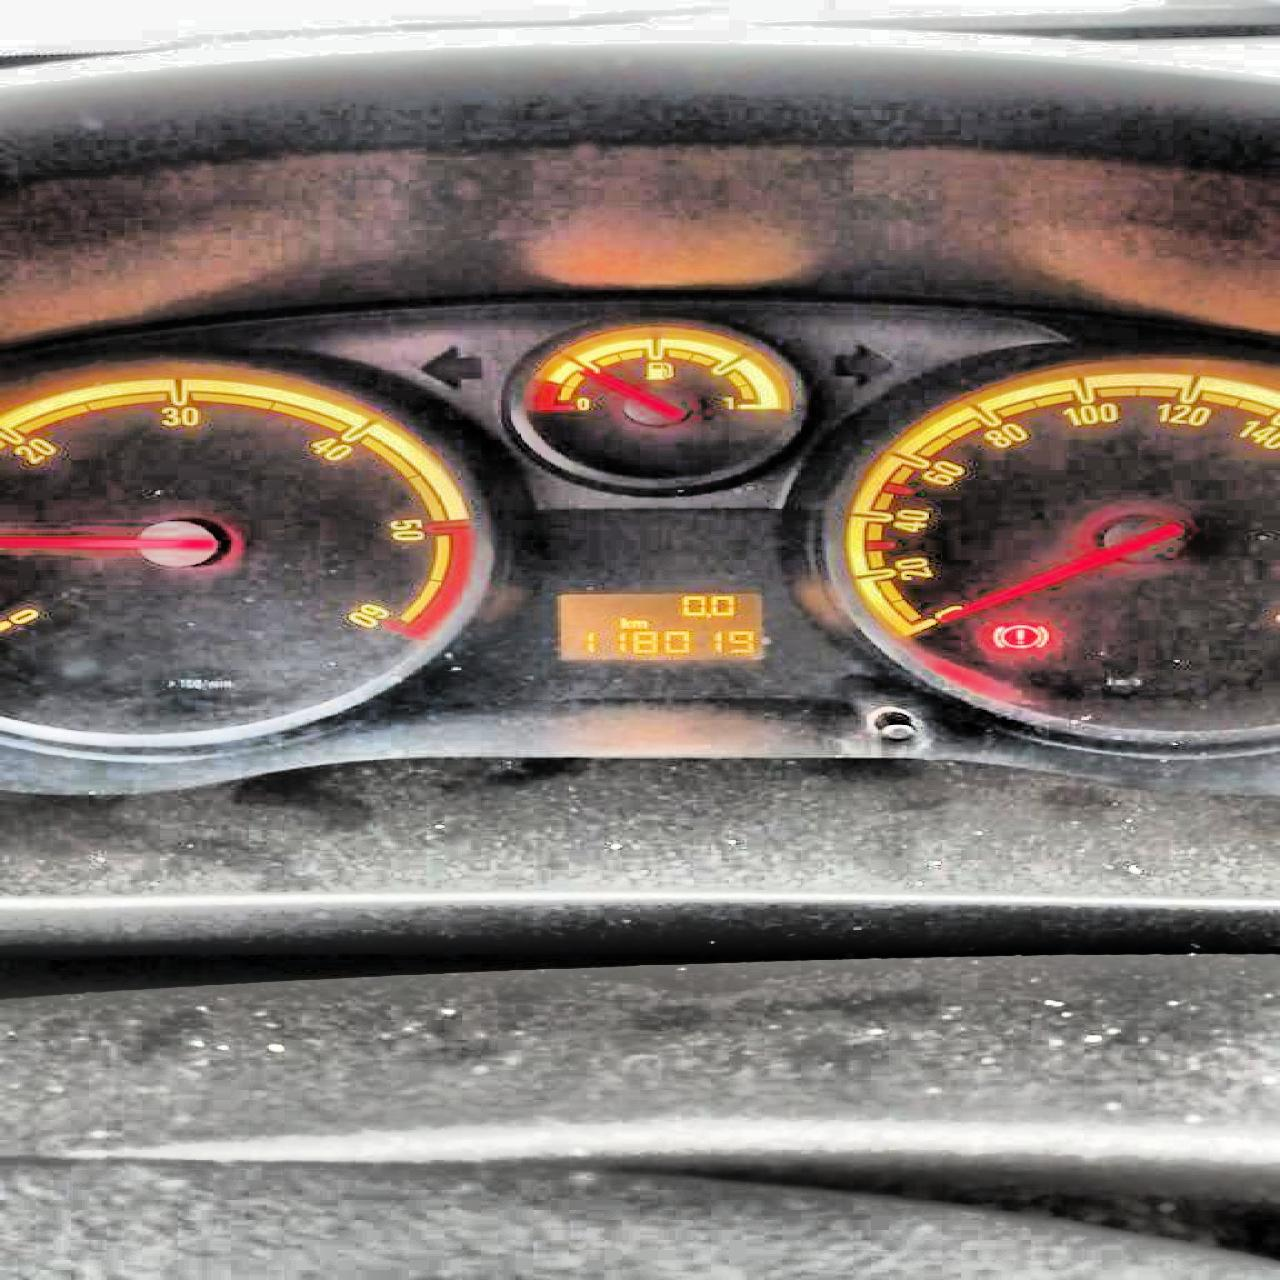-: (702, 611, 709, 619)
0: (660, 628, 689, 653), (709, 594, 734, 615), (680, 595, 702, 615)
1: (709, 629, 722, 654), (613, 629, 627, 652), (583, 629, 595, 652)
8: (629, 628, 658, 653)
9: (724, 628, 754, 653)
X: (618, 617, 632, 628), (632, 619, 647, 627)
odometer: (553, 590, 769, 662)
